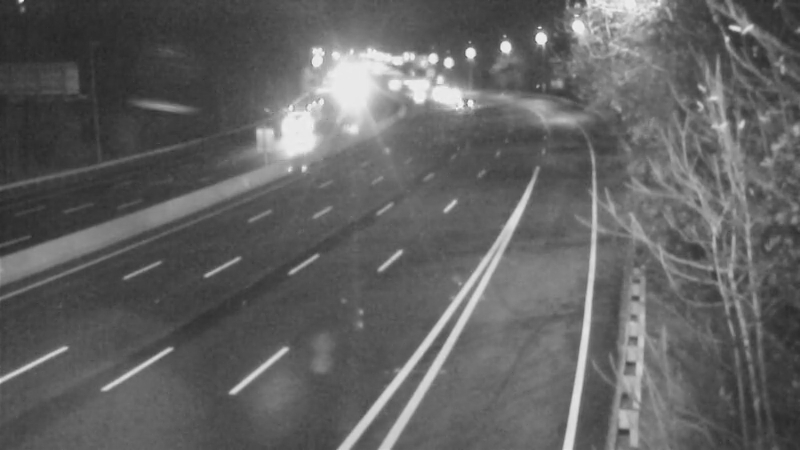vehicle: (391, 73, 441, 123), (426, 72, 476, 122), (442, 78, 492, 128), (269, 100, 319, 150)
